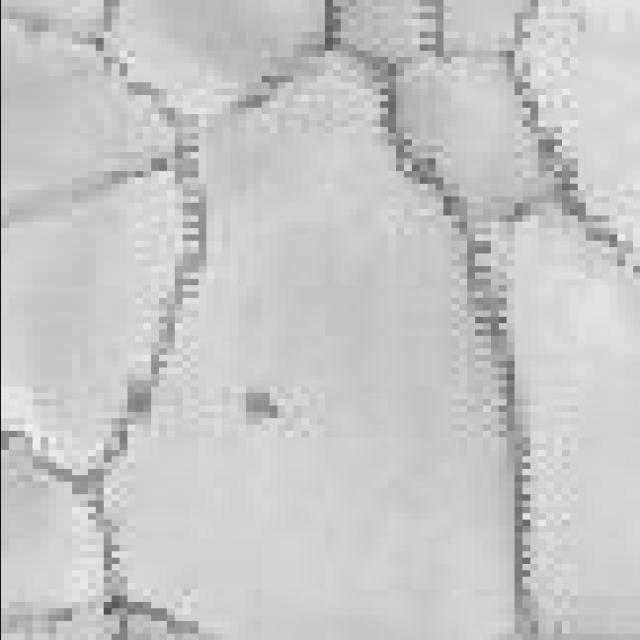good_void: (232, 384, 286, 426)
